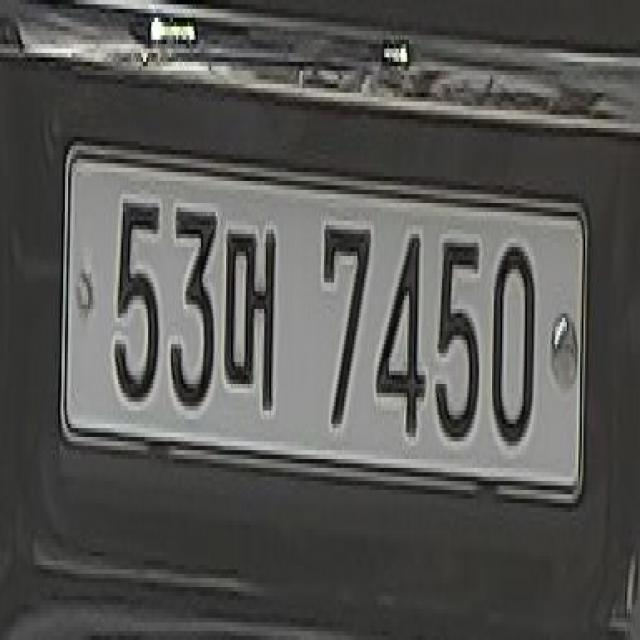0: (490, 225, 556, 464)
3: (163, 185, 221, 428)
4: (371, 212, 434, 450)
5: (113, 181, 168, 406), (434, 216, 480, 464)
7: (320, 212, 372, 441)
license_plate: (61, 132, 592, 538)
meo: (221, 194, 279, 428)
